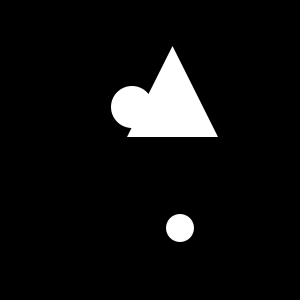rectangle: (111, 86, 153, 128), (166, 214, 194, 242)
triangle: (127, 46, 218, 137)
